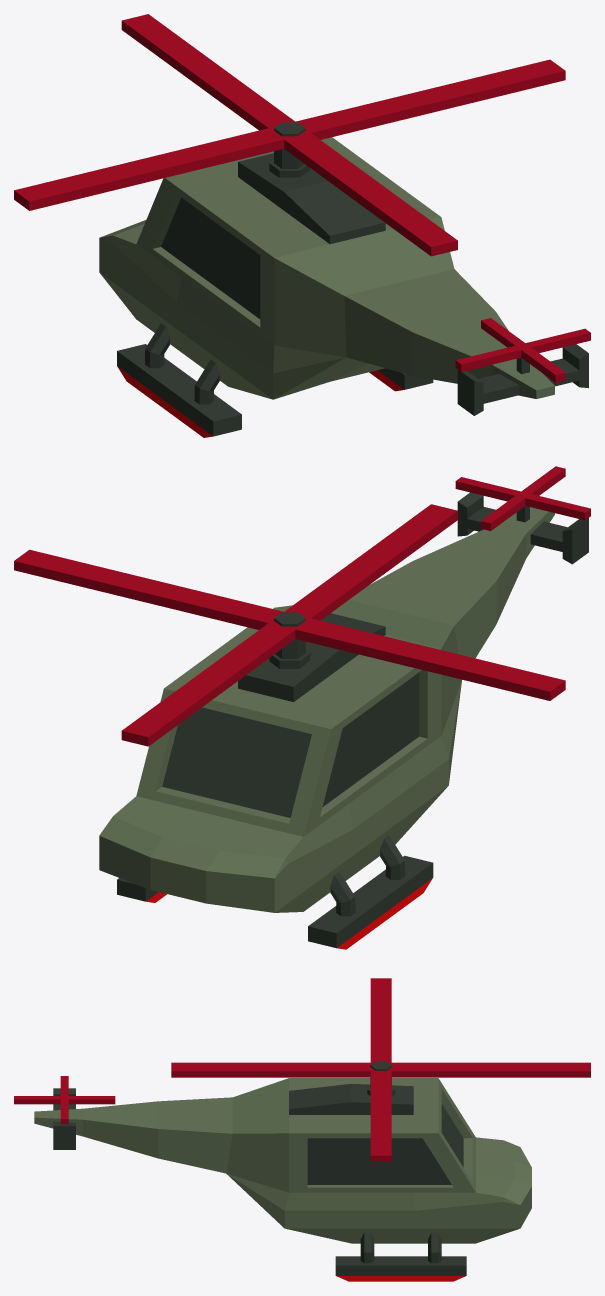
File: Helicopter.glb
3 renders of one model, top to bottom at view 1: azimuth 30°, elevation 25°; view 2: azimuth 150°, elevation 25°; view 3: azimuth 270°, elevation 25°, orthographic. The views are drawn at different scales.
Parts seen in each view (by area): view 1: Base, MainBlades, BackBlades; view 2: Base, MainBlades, BackBlades; view 3: Base, MainBlades, BackBlades.
Part boxes in pixels (left/top/right/bottom): Base: left=99, top=122, right=588, bottom=437; MainBlades: left=14, top=14, right=565, bottom=256; BackBlades: left=455, top=318, right=590, bottom=382; Base: left=99, top=492, right=588, bottom=949; MainBlades: left=14, top=504, right=565, bottom=746; BackBlades: left=455, top=466, right=590, bottom=530; Base: left=34, top=1061, right=531, bottom=1281; MainBlades: left=171, top=978, right=590, bottom=1161; BackBlades: left=14, top=1076, right=115, bottom=1124.
Bounding box in the file's own units: 11.22 × 5.31 × 15.43.
